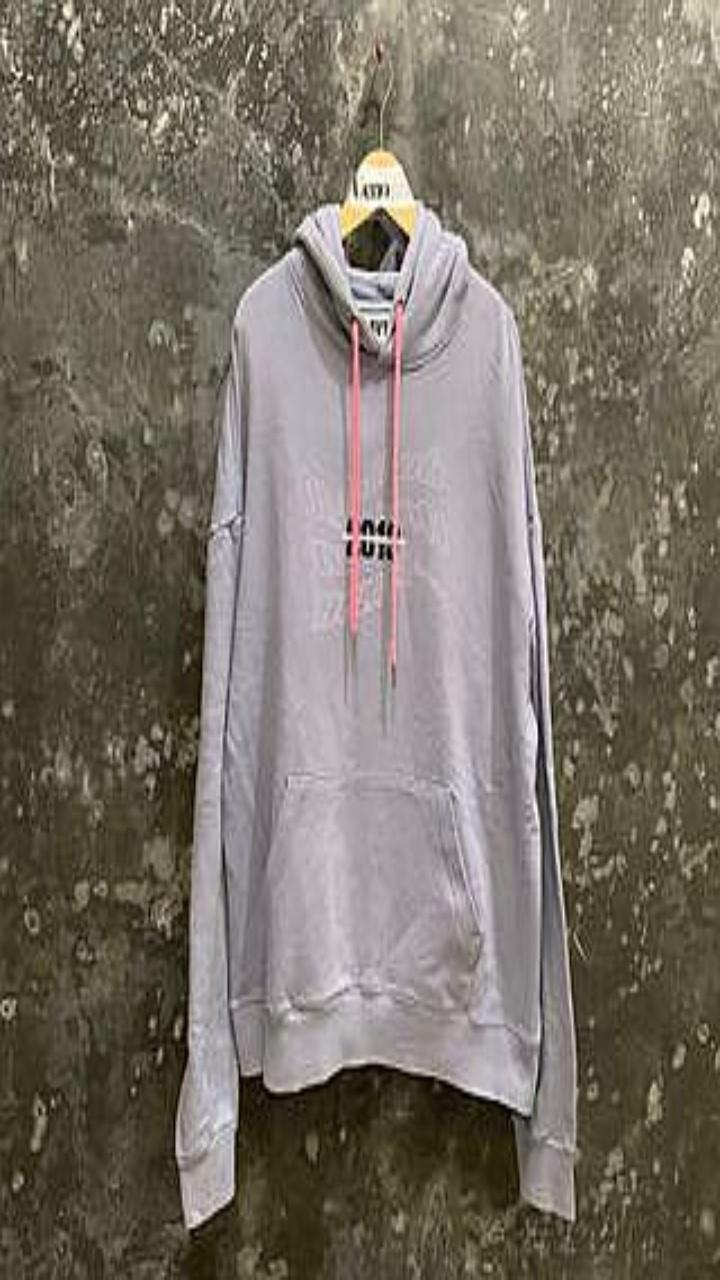Hoodie: (175, 201, 575, 1227)
